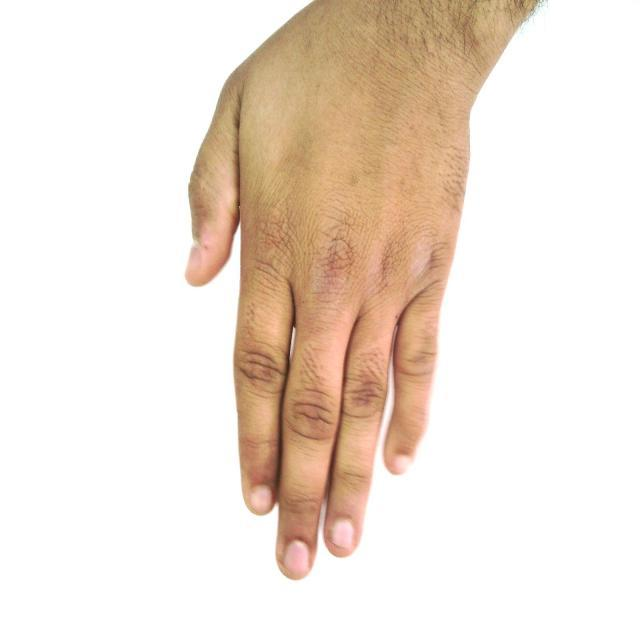Fingernail: (283, 541, 309, 577), (331, 520, 354, 548), (251, 487, 273, 513), (186, 245, 200, 276), (393, 457, 410, 472)
